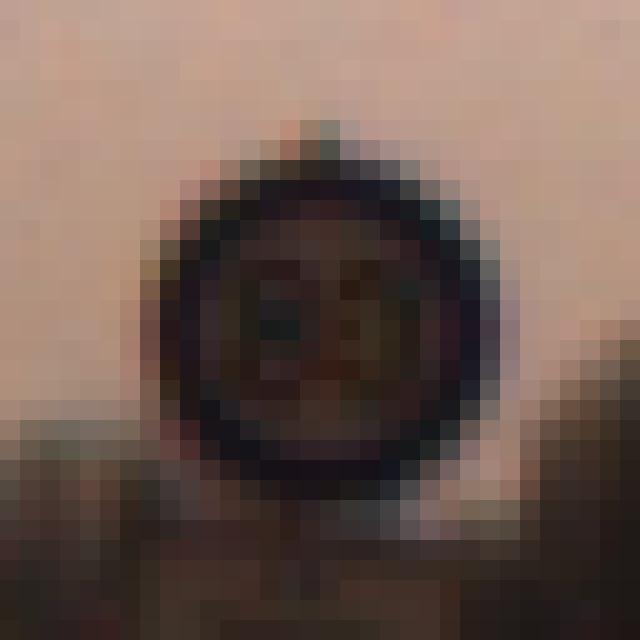SPEED-LIMIT-80: (148, 153, 511, 504)
